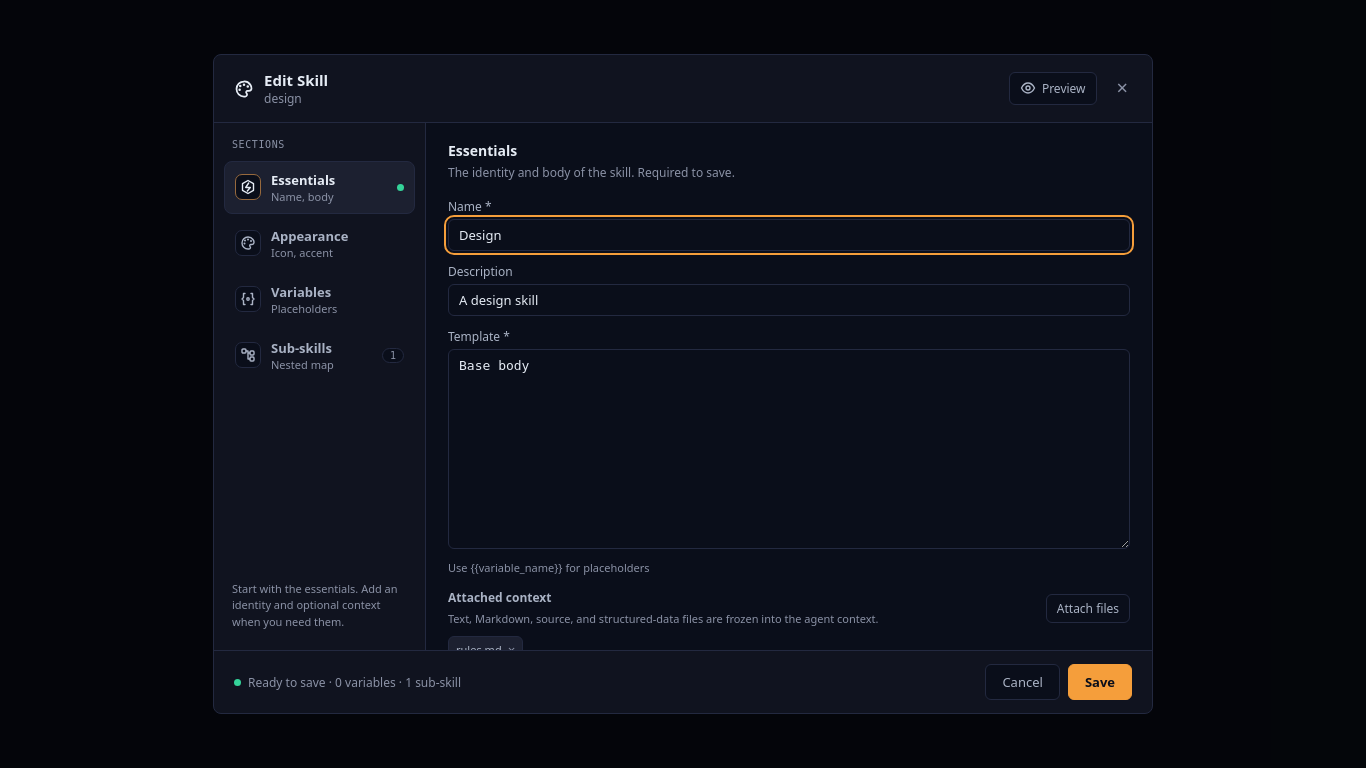
Test: SkillEditor sub-skills › opens on Essentials and navigates categories via the side rail
Expected: the text "Accent Color" is not shown
Click the button "Appearance Icon, accent" at (320, 243), box [224,217,415,270]
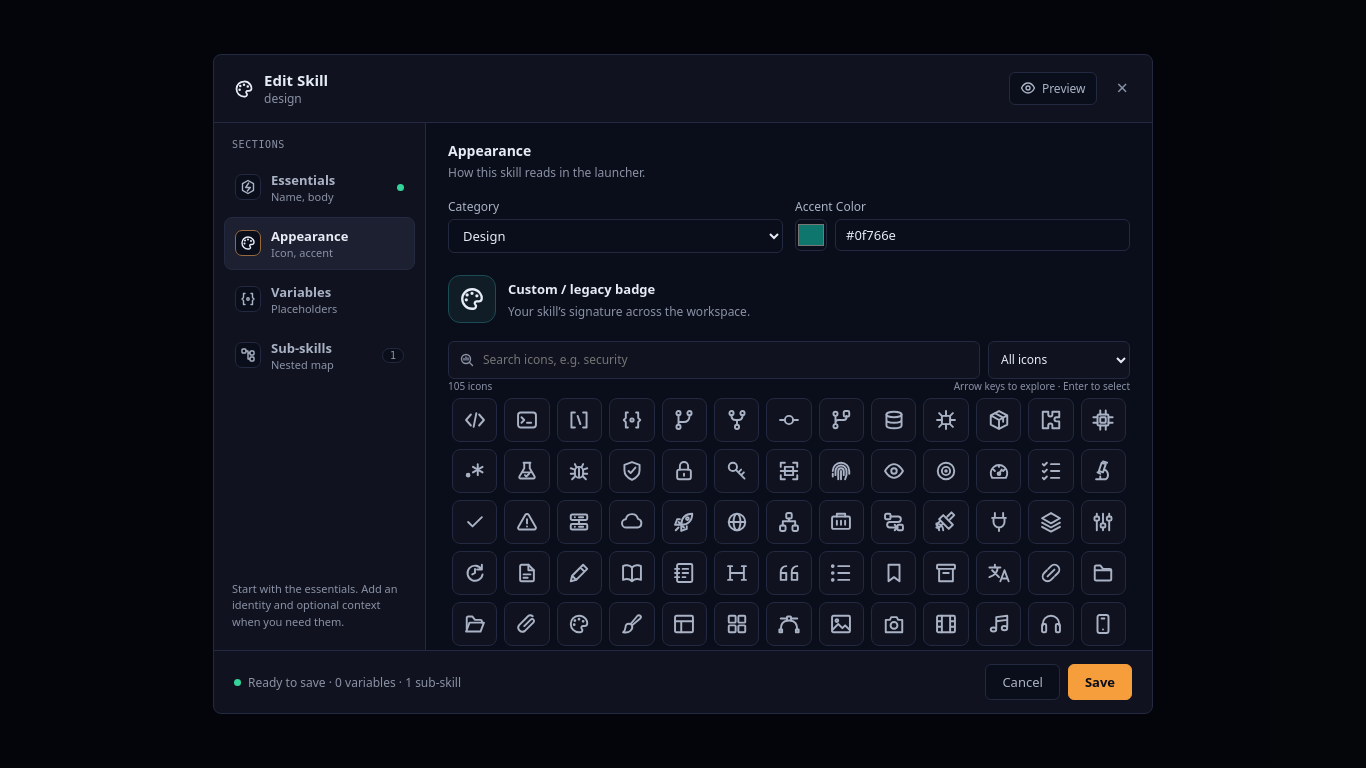
Expected: the text "Accent Color" is shown, [795,198,866,215]
